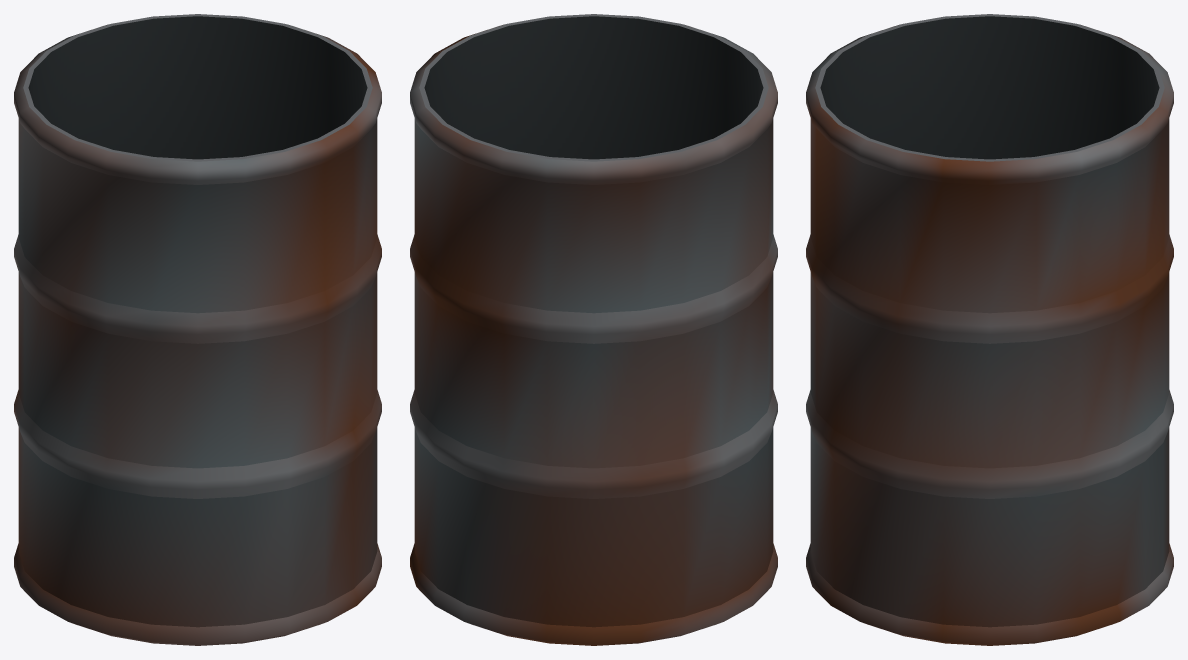
Rendered from drum.steel_open.rusty.glb.
The picture shows the model from 3 angles, left to right: view 1: azimuth 30°, elevation 25°; view 2: azimuth 150°, elevation 25°; view 3: azimuth 270°, elevation 25°; orthographic projection.
Parts seen in each view (by area): view 1: drum_steel_open_rusty; view 2: drum_steel_open_rusty; view 3: drum_steel_open_rusty.
Boxes of the visible parts, left/top/right/bottom form: drum_steel_open_rusty: left=14, top=14, right=381, bottom=645; drum_steel_open_rusty: left=410, top=14, right=777, bottom=645; drum_steel_open_rusty: left=806, top=14, right=1173, bottom=645.
Size of what is drawn, in the model's own units: 0.653 by 0.95 by 0.653.
